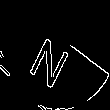N_NE: (31, 23, 79, 87)
